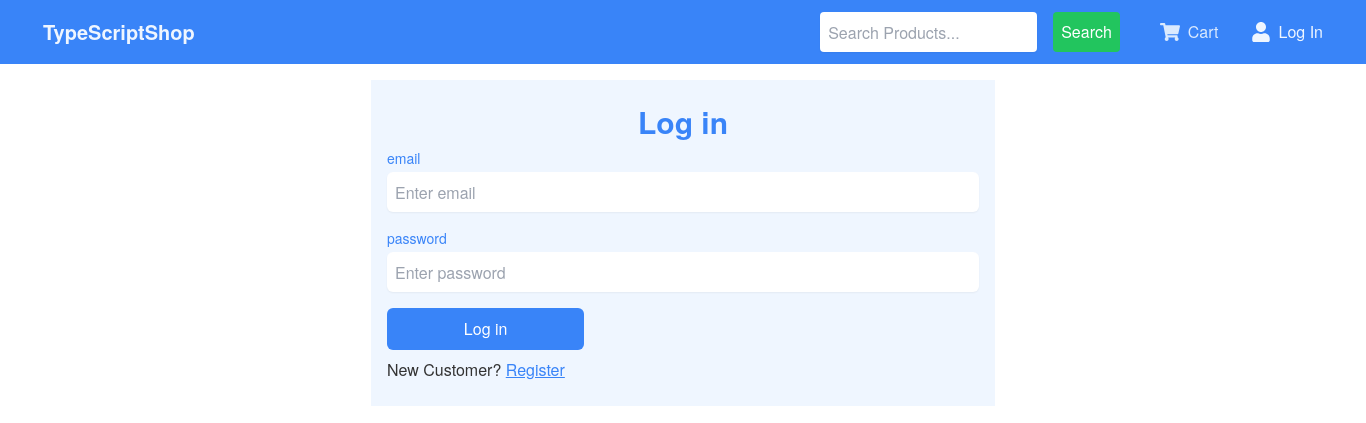
shows username in header after successful login
Step 1. Type "john@email.com" into the field labelled "email" → {"x": 683, "y": 192}, box top-left (387, 172), bottom-right (979, 212)
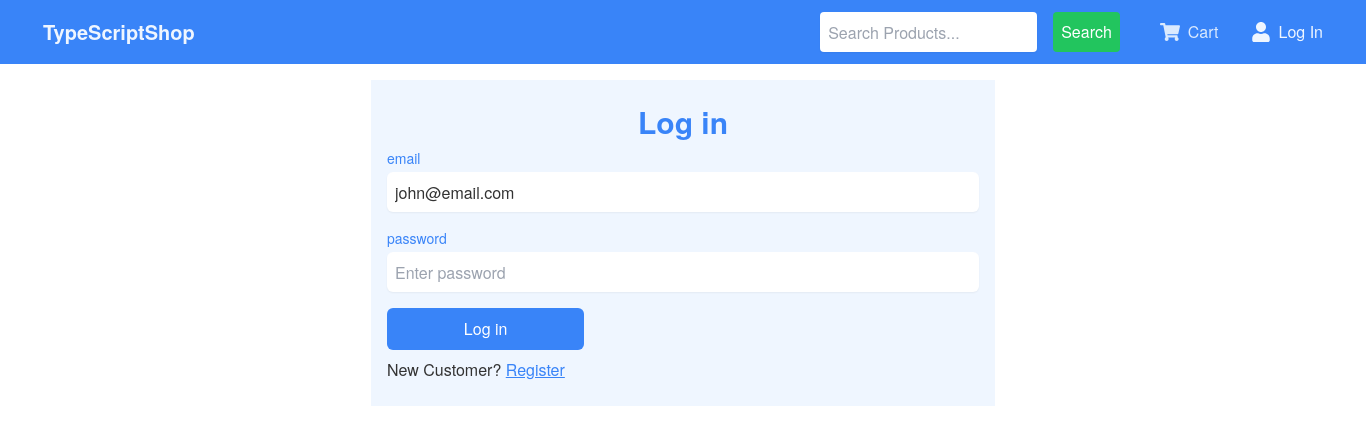
Step 2. Type "123456" into the password field labelled "password" → {"x": 683, "y": 272}, box top-left (387, 252), bottom-right (979, 292)
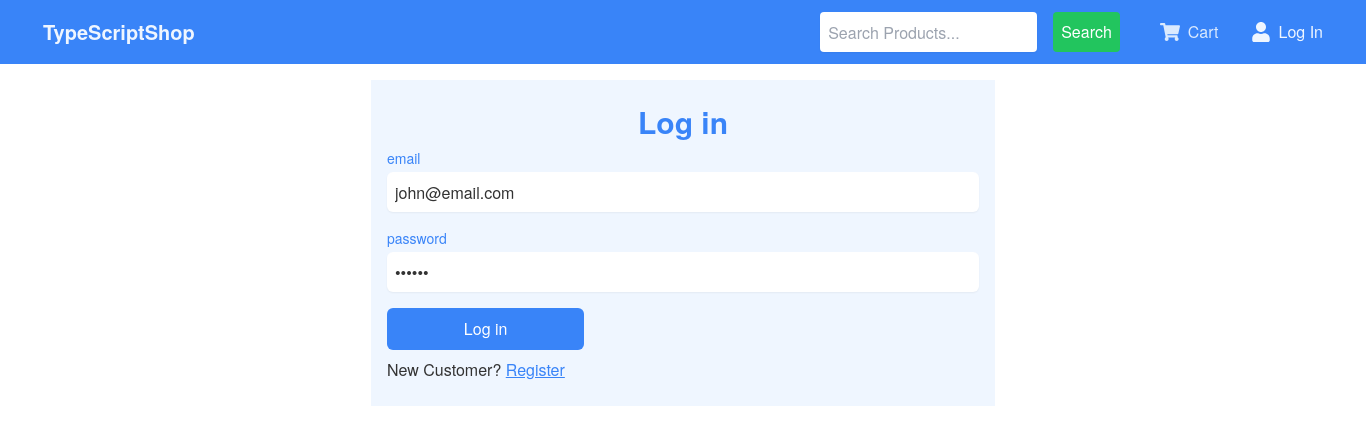
Step 3. Click the button with test id "login" → {"x": 486, "y": 329}, box top-left (387, 308), bottom-right (584, 350)
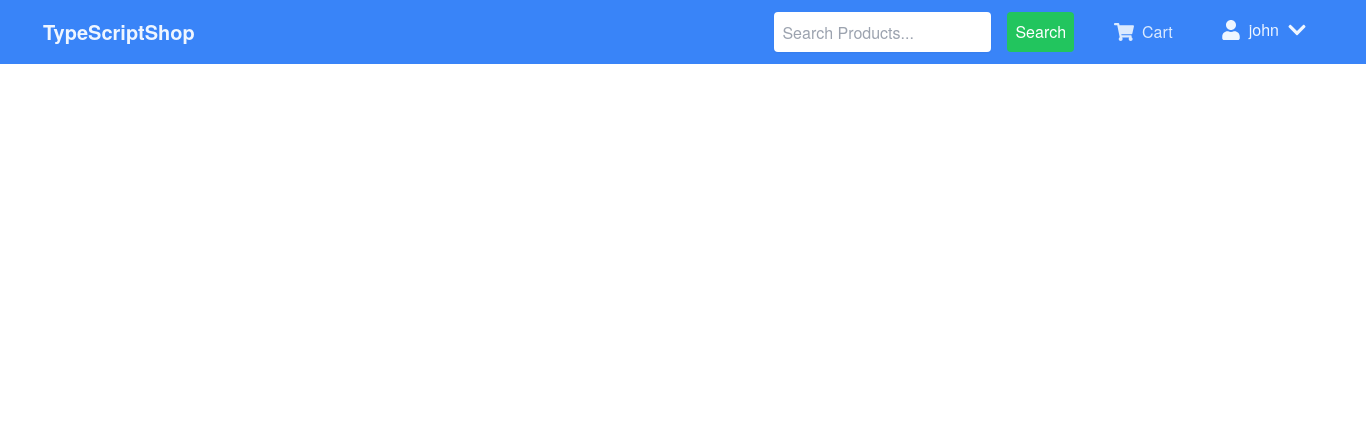
Now the text with test id "user-info-name" reads "john", box top-left (1249, 18), bottom-right (1279, 41)
